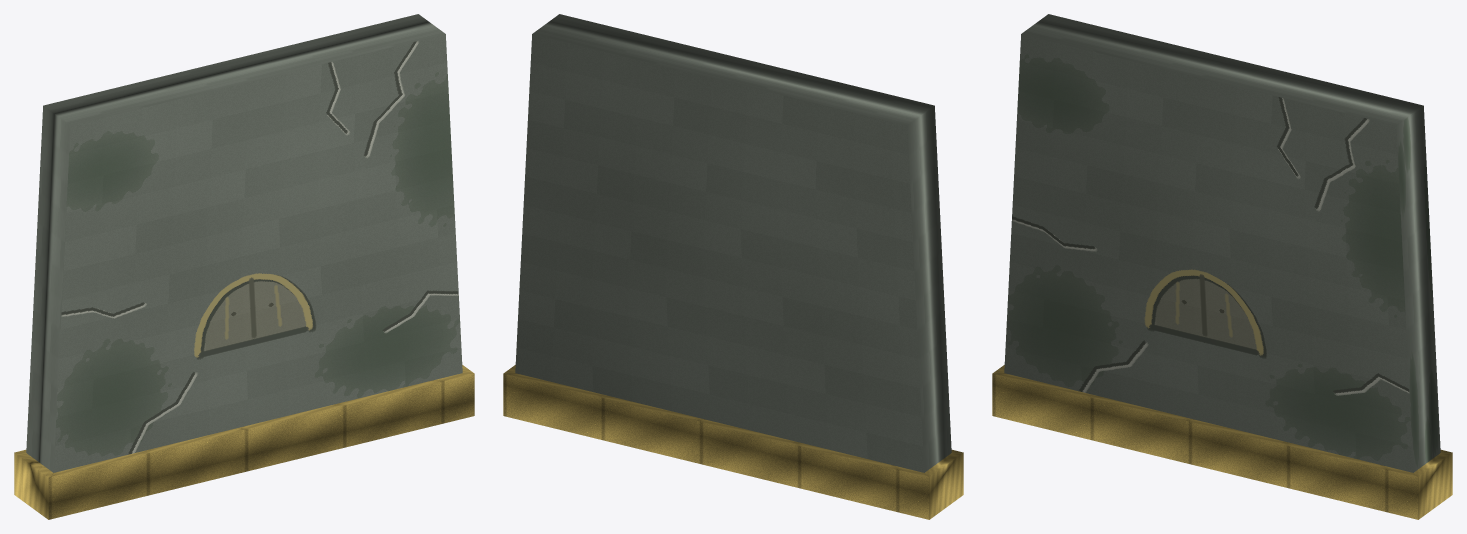
File: Door1_StoneSliding.fbx
The picture shows the model from 3 angles, left to right: view 1: azimuth 30°, elevation 25°; view 2: azimuth 150°, elevation 25°; view 3: azimuth 330°, elevation 25°; orthographic projection.
Visible parts, largest first — view 1: Door1_StoneAndGold_OneMesh; view 2: Door1_StoneAndGold_OneMesh; view 3: Door1_StoneAndGold_OneMesh.
Part boxes in pixels (<box>): Door1_StoneAndGold_OneMesh: <box>14,14,474,519</box>; Door1_StoneAndGold_OneMesh: <box>503,14,963,519</box>; Door1_StoneAndGold_OneMesh: <box>992,14,1452,519</box>.
Size of the model in its own units: 252 by 218 by 35.
4 materials, 4 textured.
